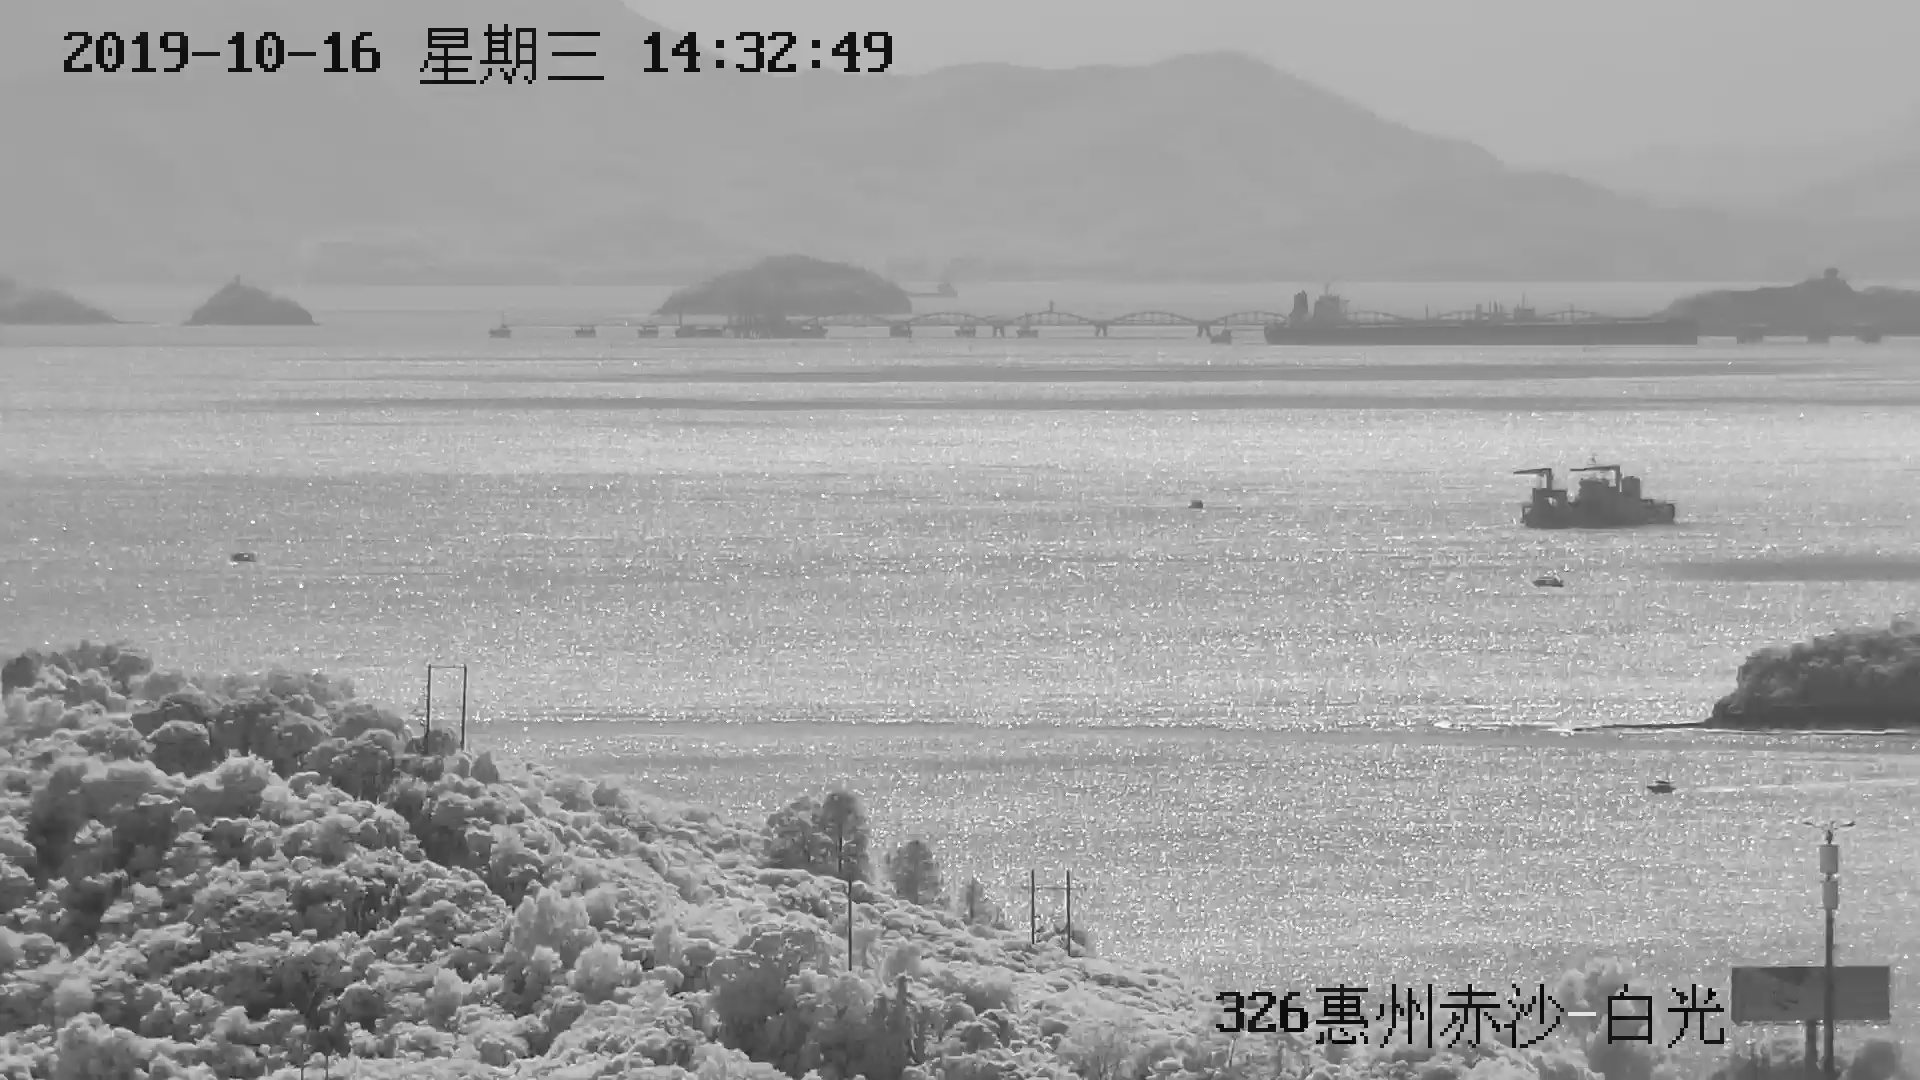ship: (1515, 462, 1679, 530)
